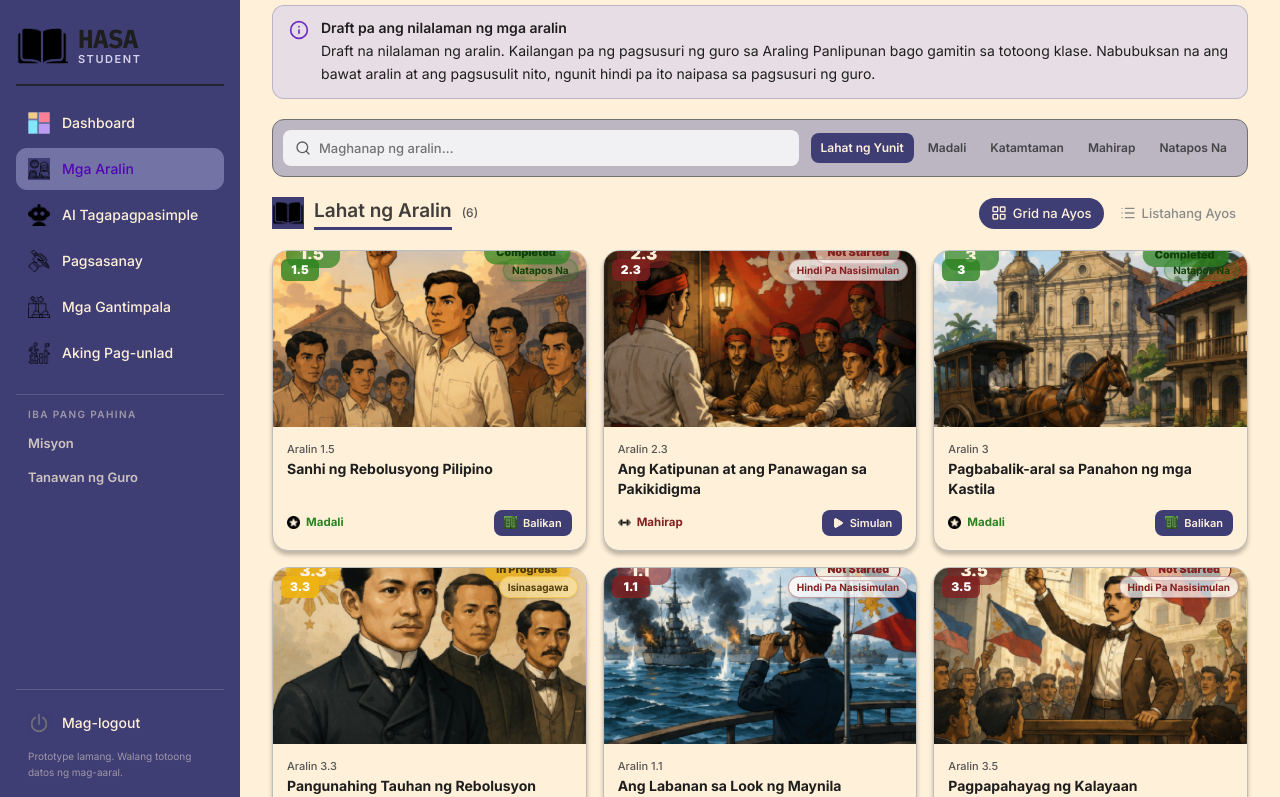
mga aralin › binubuksan ang tamang aralin mula sa card
This screenshot has width=1280, height=797.
(page scrolled)
Step 1. Click the link with aria-label "Aralin 2.3: Ang Katipunan at ang Panawagan sa Pakikidigma" → coordinates (760, 400), box [603,250,917,551]
(page scrolled)
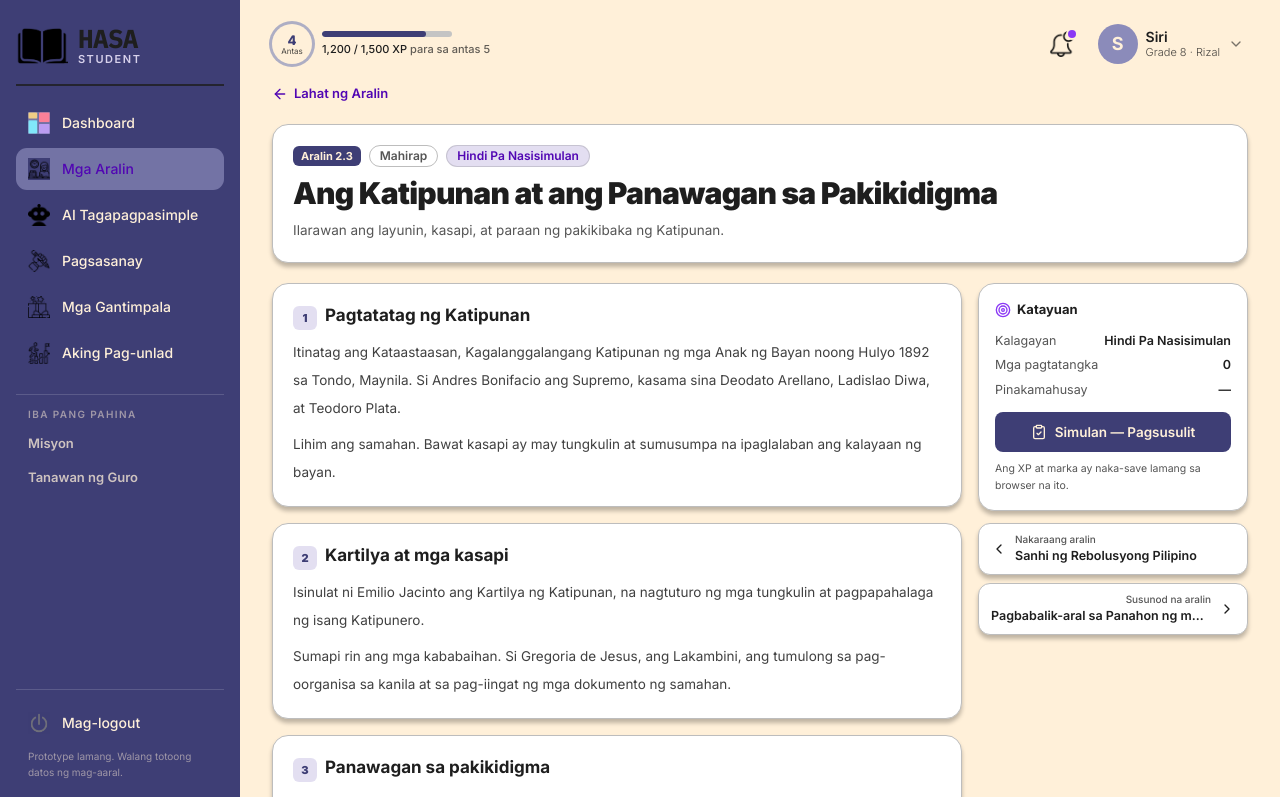
Expected: the heading "Ang Katipunan at ang Panawagan sa Pakikidigma" is shown, [293,175,997,212]
Now the heading "1 Pagtatatag ng Katipunan" is shown, box [293,305,530,330]
